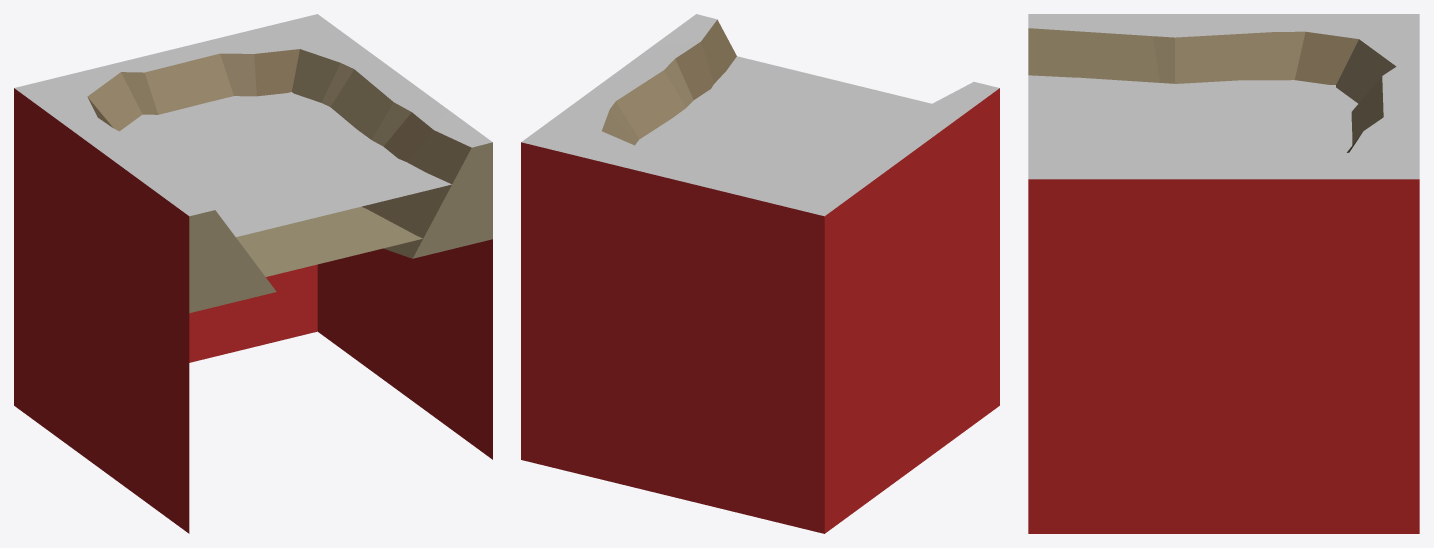
Rendered from Model_Tile_River_1WT.fbx.
3 views of the same model, side by side, from view 1: azimuth 30°, elevation 25°; view 2: azimuth 150°, elevation 25°; view 3: azimuth 270°, elevation 25° (orthographic). The views are drawn at different scales.
Visible parts, largest first — view 1: Model_Frost_Rivers6; view 2: Model_Frost_Rivers6; view 3: Model_Frost_Rivers6.
Part boxes in pixels (<box>): Model_Frost_Rivers6: <box>14,14,492,533</box>; Model_Frost_Rivers6: <box>521,14,999,533</box>; Model_Frost_Rivers6: <box>1028,14,1419,533</box>.
Bounding box in the file's own units: 200 × 200 × 200.
